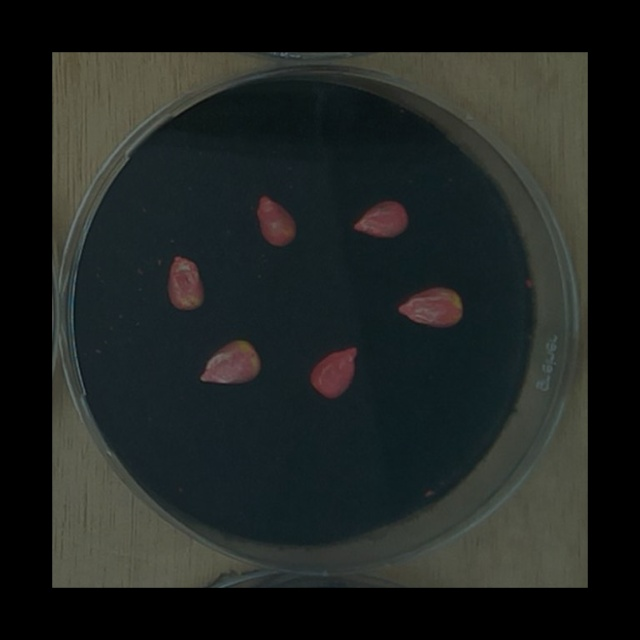Zea mays: (391, 280, 469, 334), (194, 334, 266, 391), (304, 340, 364, 405), (347, 195, 415, 246), (162, 249, 211, 316), (250, 191, 302, 254)
